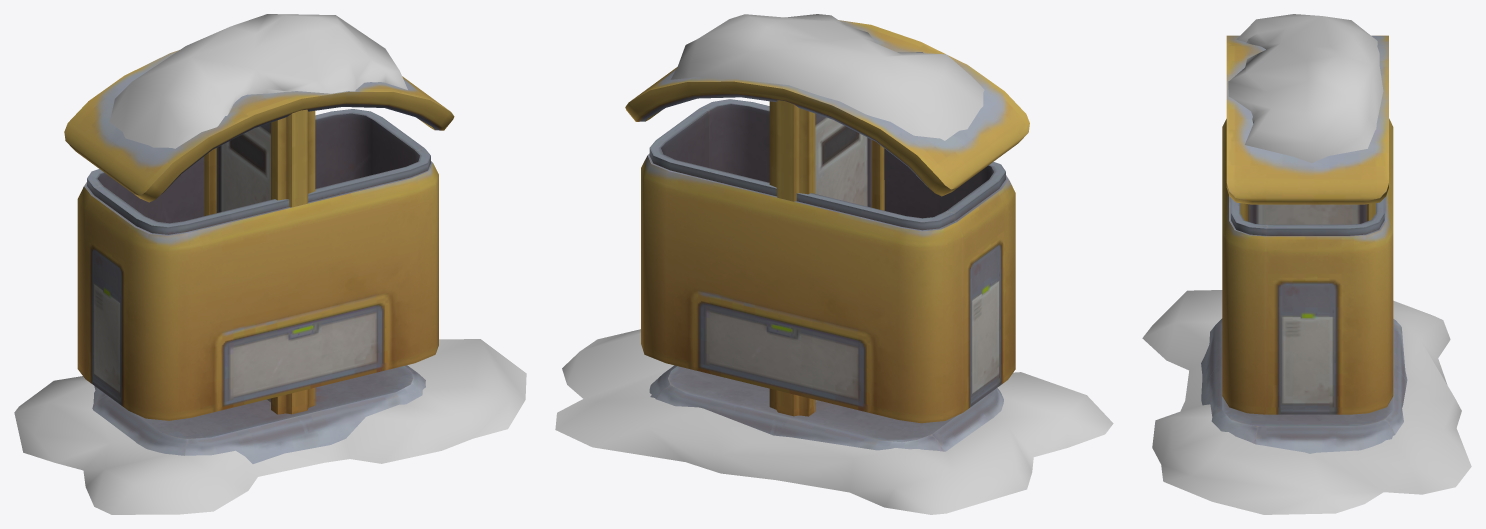
The model's file is pref_sm_city_trash01_snow_lv3.fbx.
The picture shows the model from 3 angles, left to right: view 1: azimuth 30°, elevation 25°; view 2: azimuth 150°, elevation 25°; view 3: azimuth 270°, elevation 25°; orthographic projection. The views are drawn at different scales.
Parts seen in each view (by area): view 1: sm_city_trash01_snow_lv3, sm_city_trash01b_snow_lv3; view 2: sm_city_trash01_snow_lv3, sm_city_trash01b_snow_lv3; view 3: sm_city_trash01_snow_lv3, sm_city_trash01b_snow_lv3.
Part boxes in pixels (x1,y1,x2,y2): sm_city_trash01_snow_lv3: [64, 50, 454, 463]; sm_city_trash01b_snow_lv3: [14, 14, 526, 514]; sm_city_trash01_snow_lv3: [625, 20, 1029, 451]; sm_city_trash01b_snow_lv3: [555, 14, 1113, 514]; sm_city_trash01_snow_lv3: [1201, 35, 1407, 453]; sm_city_trash01b_snow_lv3: [1142, 14, 1471, 514].
Size of the model in its own units: 2.35 by 1.84 by 1.51.
